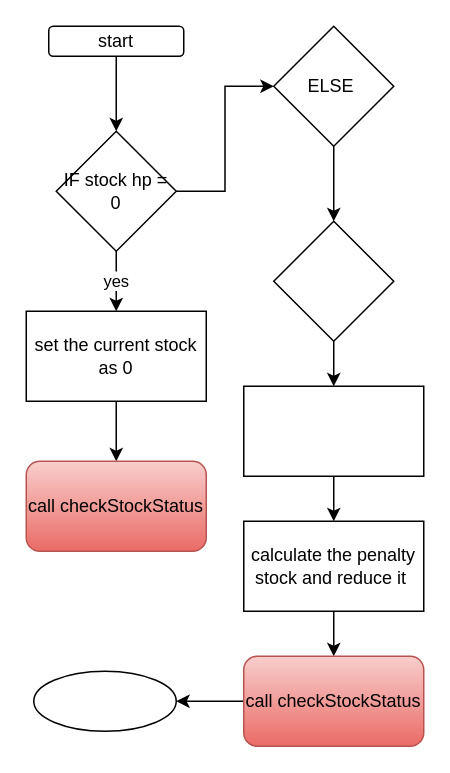
The diagram is 450 pixels wide and 773 high, and some of its shapes have lost their labels. The shapes that lost their labels are listed below. From the top down, each one's centre as x and y in pixels, then its label:
At pixel 333 280: "WHILE tower hp < stock penalty".
At pixel 333 430: "set the next stock penalty trigger and increase next threshold count".
At pixel 104 700: "end".
